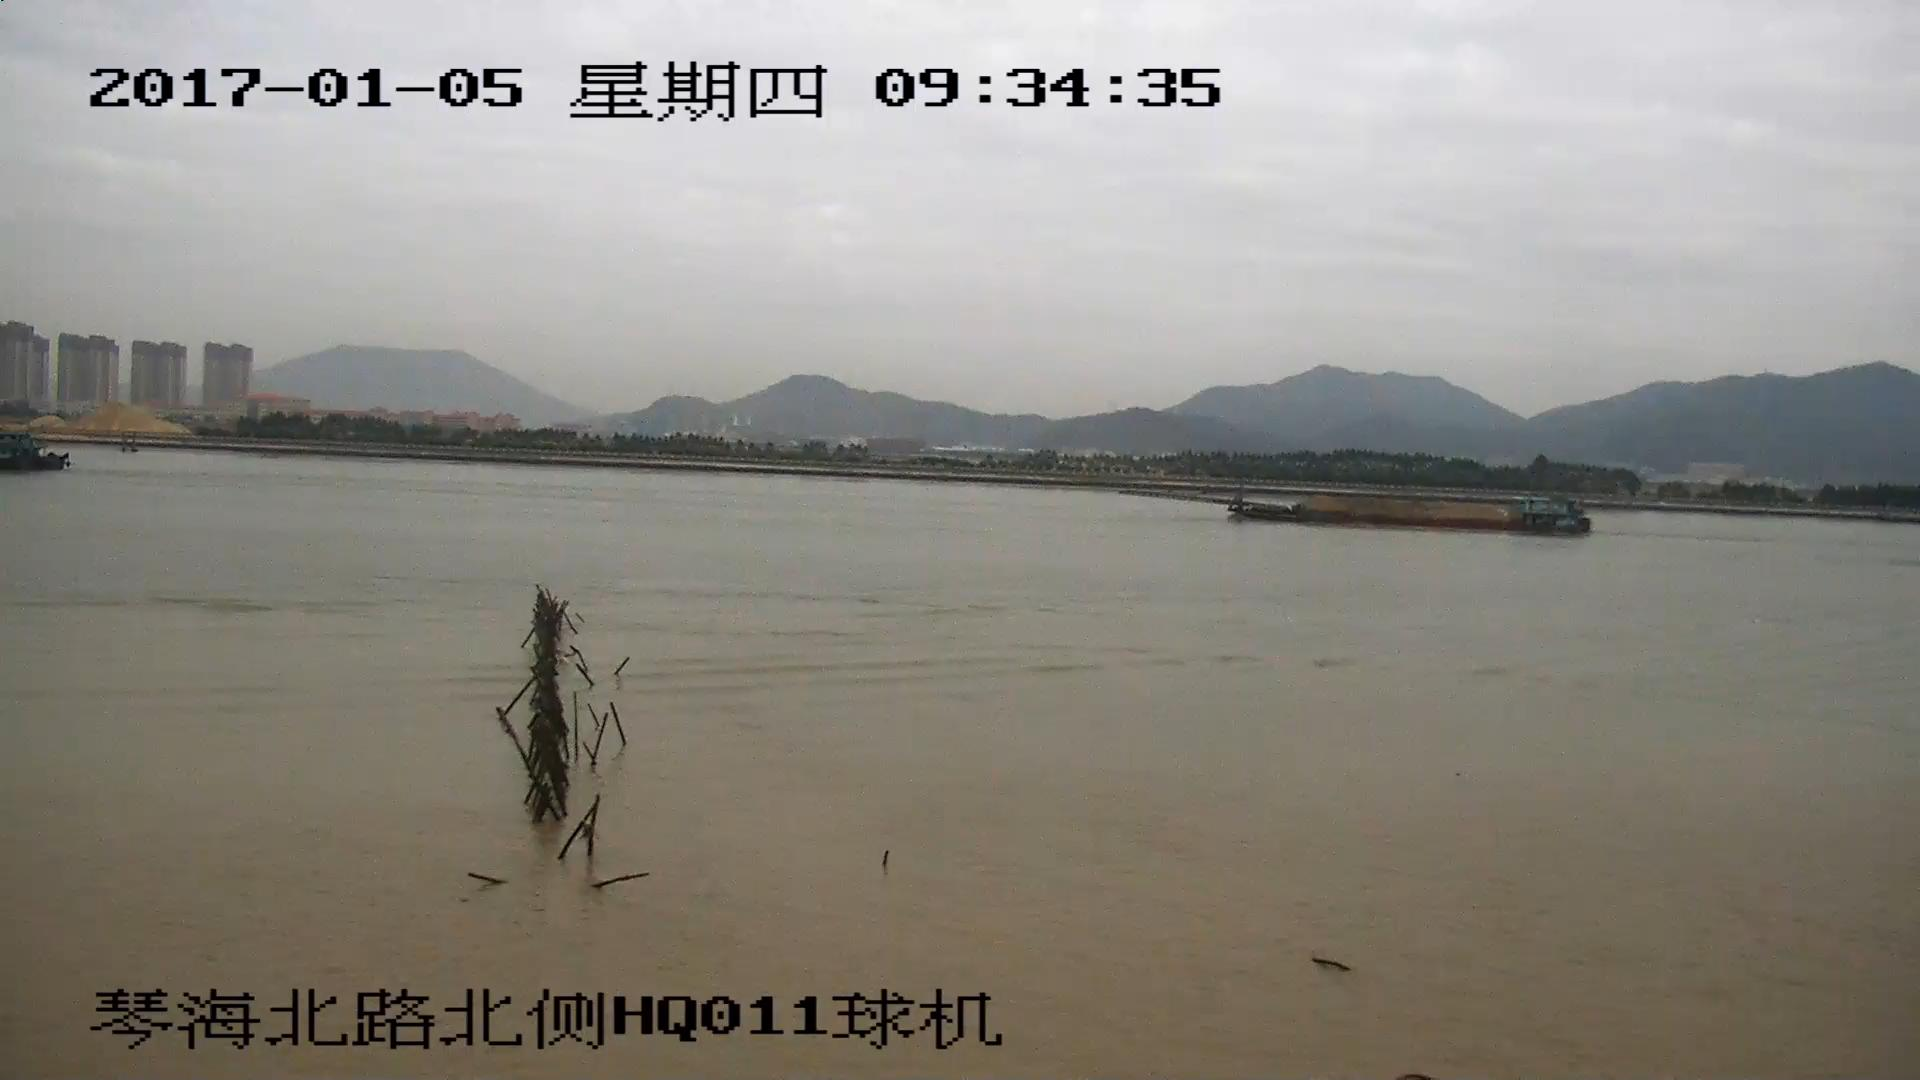ore carrier: (1124, 486, 1588, 536)
